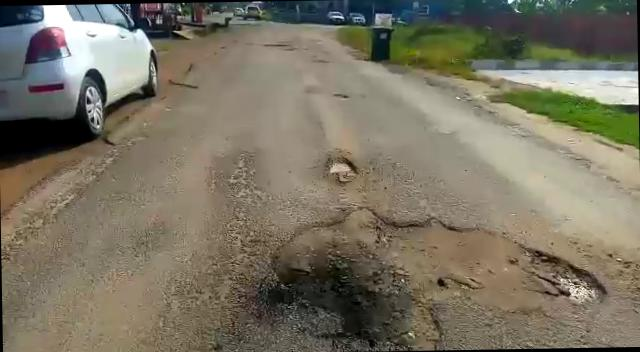pothole: (270, 202, 610, 314), (322, 156, 358, 181)
